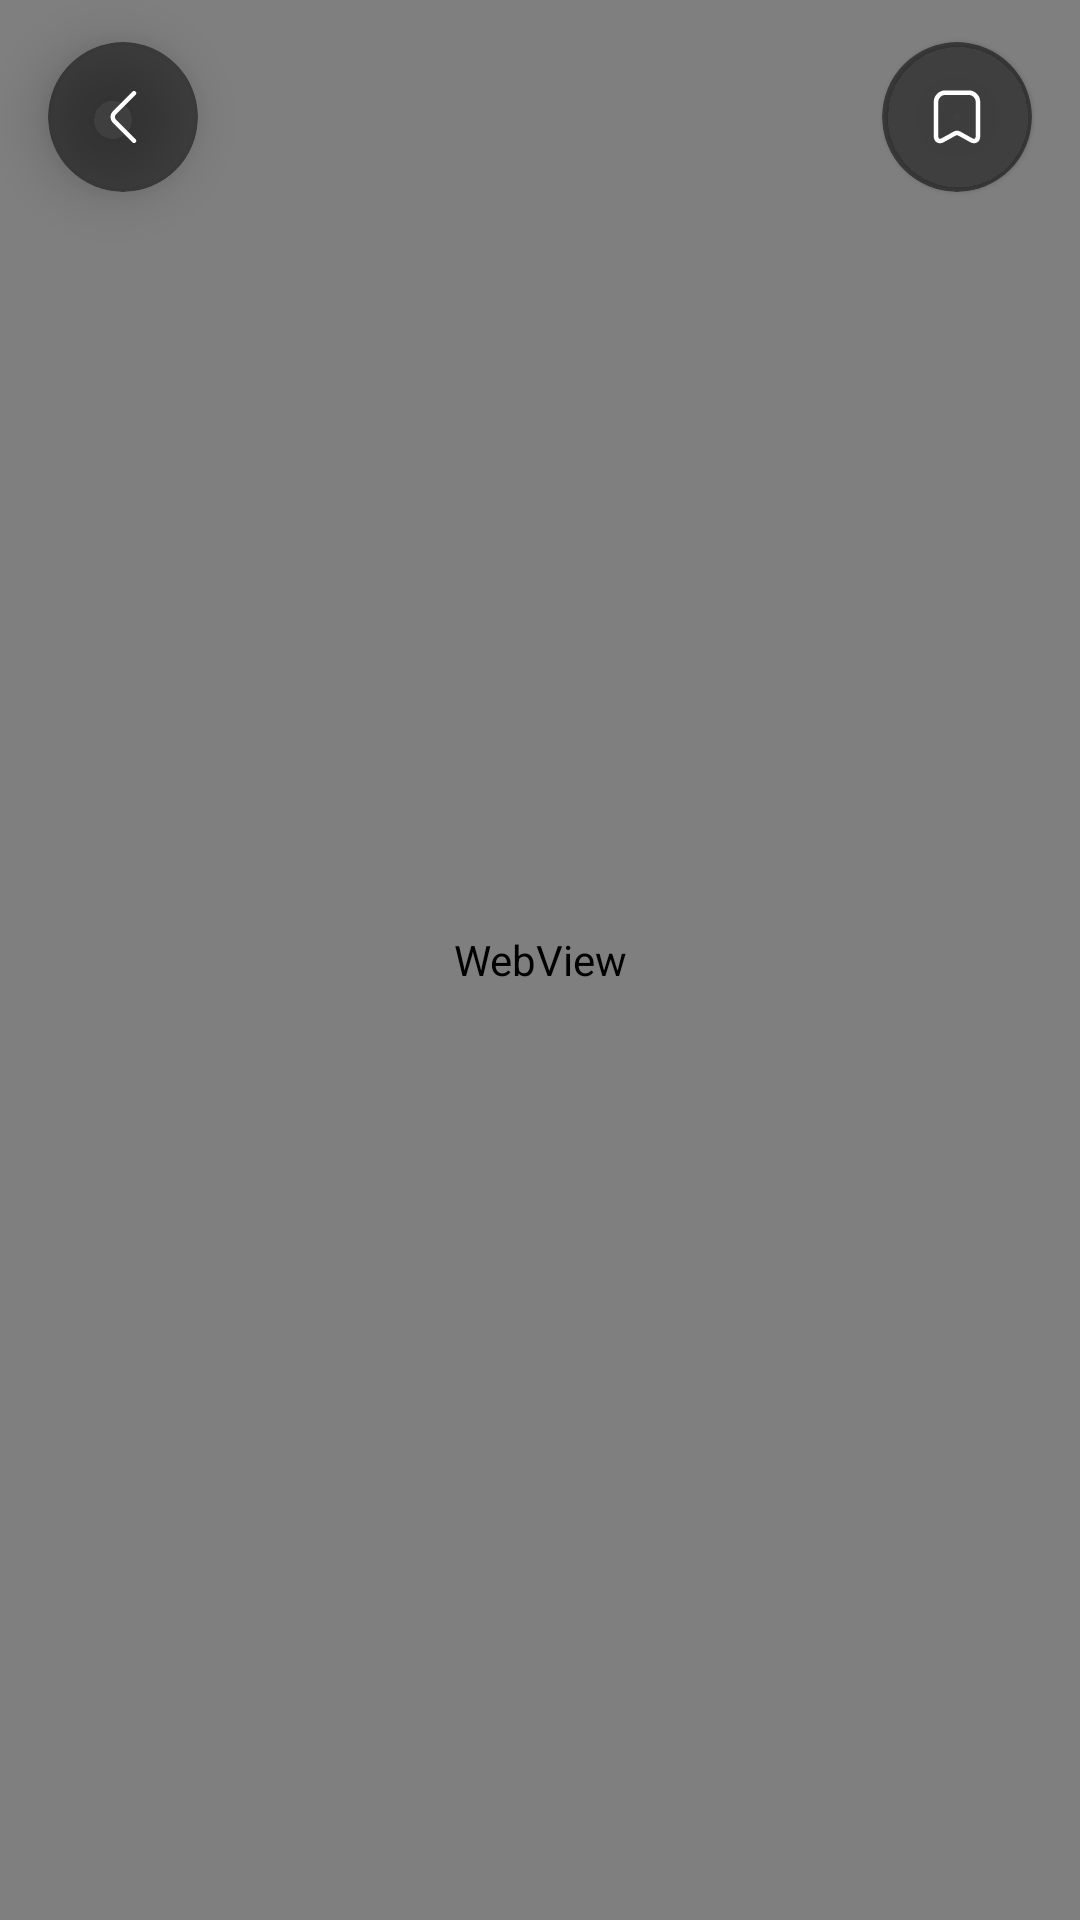

Point at icon controls on the screen. Image size 1080*1920, points as (x,y).
back: (123,117)
save: (957,117)
